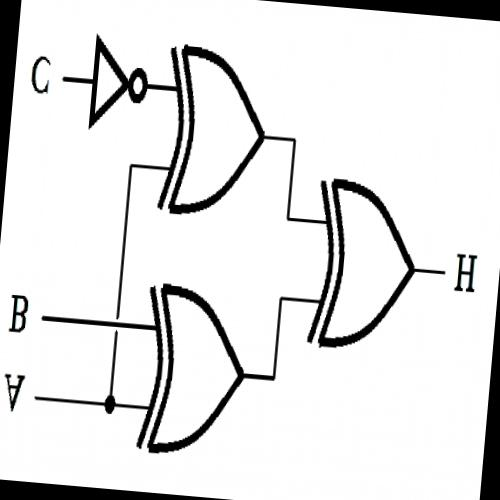not: (77, 27, 158, 143)
xor: (150, 34, 282, 231), (128, 273, 258, 471), (300, 166, 428, 365)
